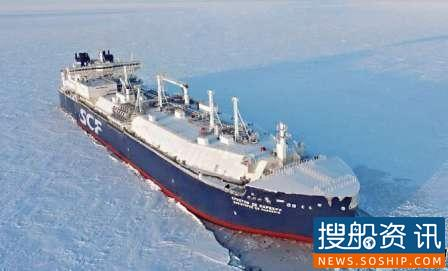Cargoship: (47, 44, 373, 243)
